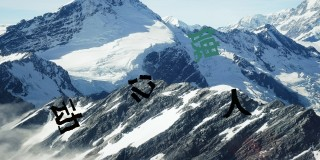人: (222, 89, 252, 119)
动: (49, 97, 84, 135)
心: (126, 73, 156, 103)
魄: (187, 27, 220, 63)
